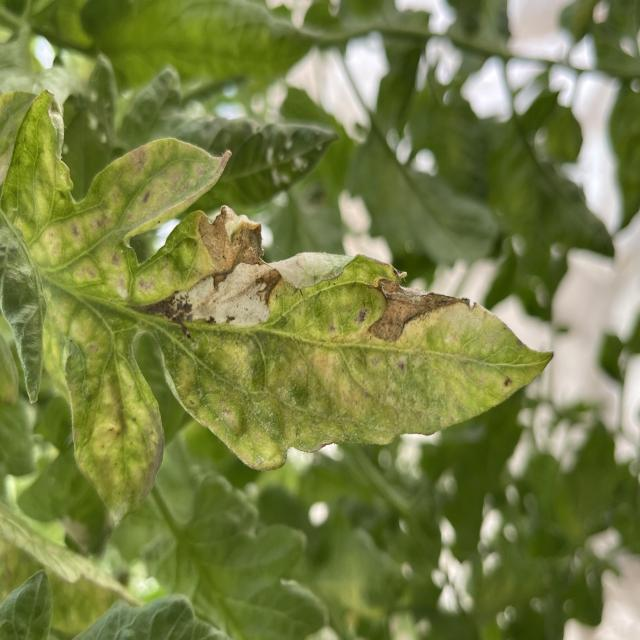Tuta absoluta: (168, 253, 282, 331), (368, 278, 461, 356)
